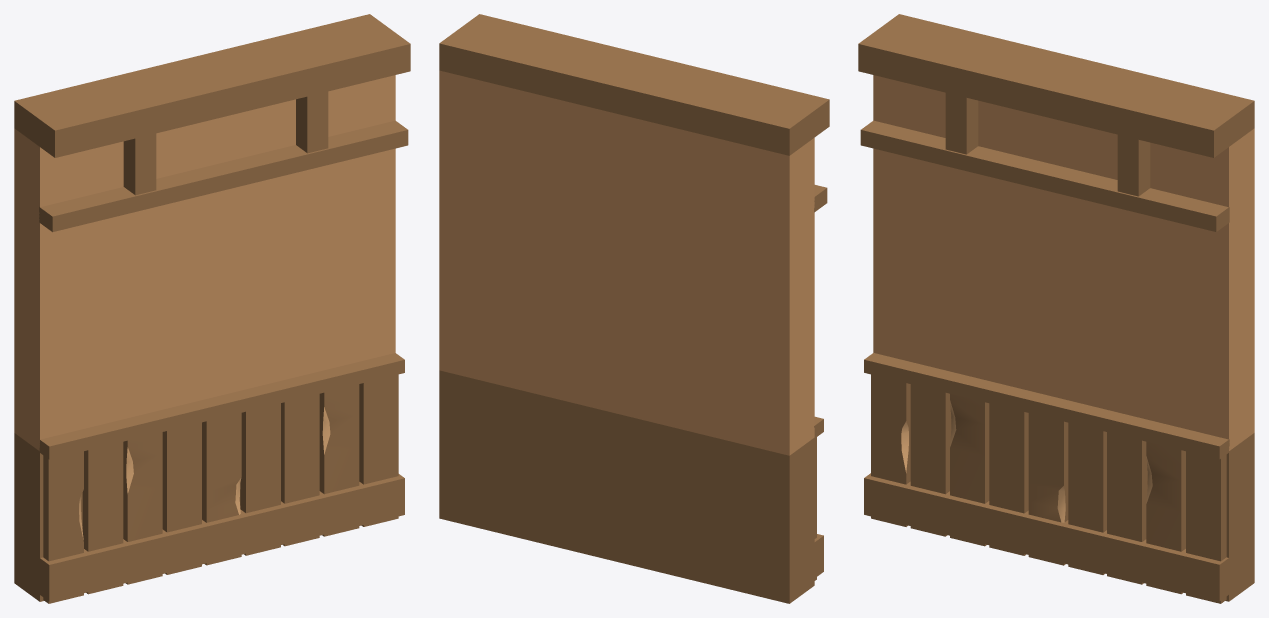
File: Wall_Normal.fbx
The picture shows the model from 3 angles, left to right: view 1: azimuth 30°, elevation 25°; view 2: azimuth 150°, elevation 25°; view 3: azimuth 330°, elevation 25°; orthographic projection.
Parts seen in each view (by area): view 1: Wall_Normal; view 2: Wall_Normal; view 3: Wall_Normal.
Part boxes in pixels (<box>): Wall_Normal: <box>14,14,410,603</box>; Wall_Normal: <box>439,14,829,603</box>; Wall_Normal: <box>858,14,1254,603</box>.
Bounding box in the file's own units: 400 × 518 × 79.52.
